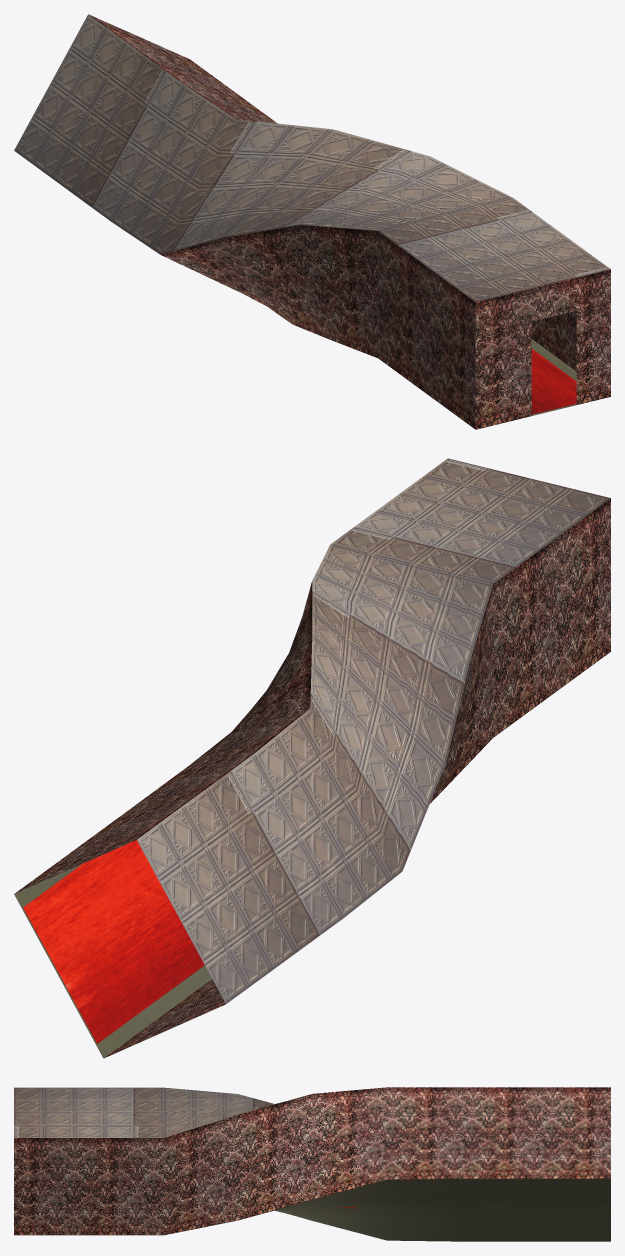
File: pasillo_retorcido 1.FBX
The picture shows the model from 3 angles, top to bottom: view 1: azimuth 30°, elevation 25°; view 2: azimuth 150°, elevation 25°; view 3: azimuth 270°, elevation 25°; orthographic projection. The views are drawn at different scales.
Parts seen in each view (by area): view 1: pasillo_retorcido; view 2: pasillo_retorcido; view 3: pasillo_retorcido.
Part boxes in pixels (bbox=[...]): pasillo_retorcido: bbox=[14, 14, 610, 429]; pasillo_retorcido: bbox=[14, 458, 610, 1058]; pasillo_retorcido: bbox=[14, 1087, 610, 1241].
Size of the model in its own units: 180 by 170 by 591.
